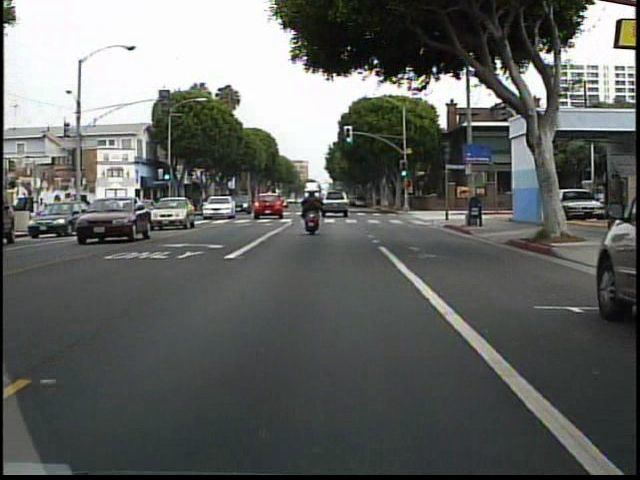person: (299, 184, 328, 240)
